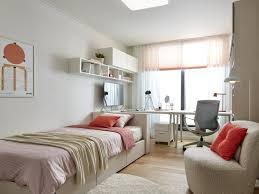Bed: (0, 109, 152, 194)
Chair: (181, 97, 222, 150)
Sofa: (186, 117, 259, 194)
curtain: (126, 44, 165, 109), (199, 37, 232, 101)
